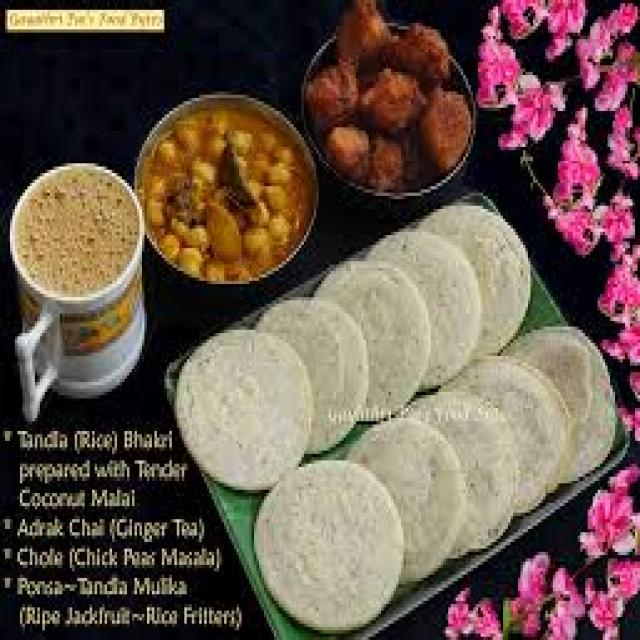IDLI: (252, 457, 396, 624), (403, 385, 513, 549), (503, 320, 613, 480), (416, 202, 528, 349), (256, 297, 364, 447)
